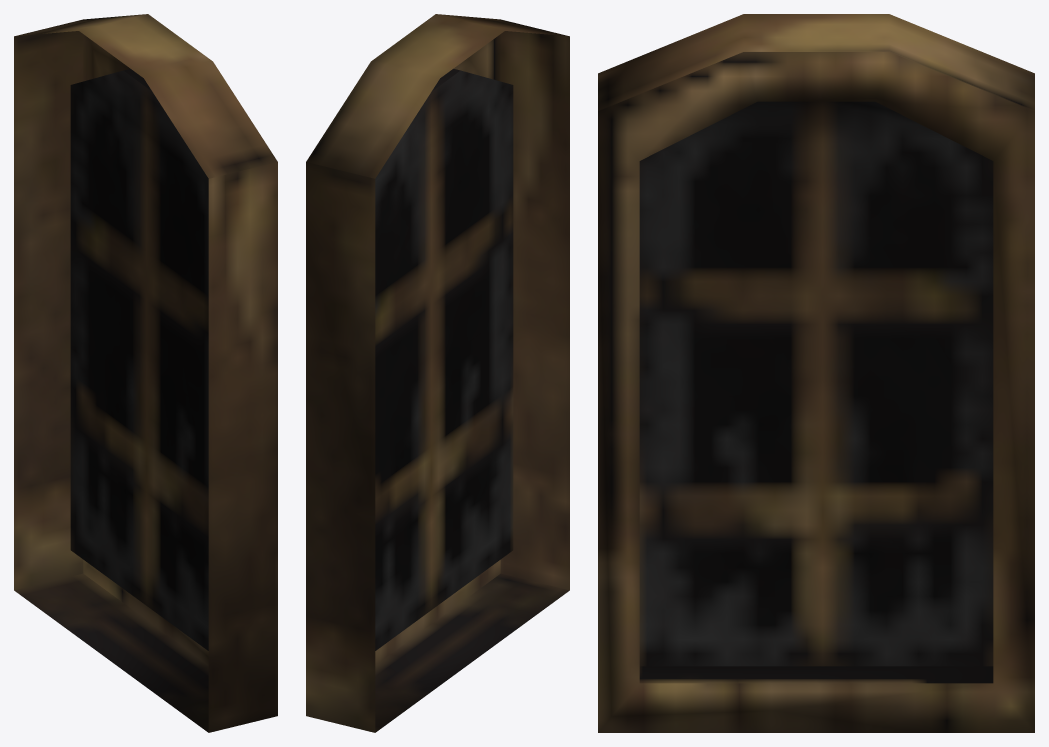
Rendered from HouseWindow4.fbx.
The picture shows the model from 3 angles, left to right: view 1: azimuth 30°, elevation 25°; view 2: azimuth 150°, elevation 25°; view 3: azimuth 270°, elevation 25°; orthographic projection. The views are drawn at different scales.
Visible parts, largest first — view 1: HouseWindow.003; view 2: HouseWindow.003; view 3: HouseWindow.003.
Part boxes in pixels (x1,y1,x2,y2): HouseWindow.003: [14, 14, 277, 732]; HouseWindow.003: [306, 14, 569, 732]; HouseWindow.003: [598, 14, 1034, 732].
Bounding box in the file's own units: 38.93 × 326 × 190.
